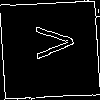V: (25, 25, 75, 60)
